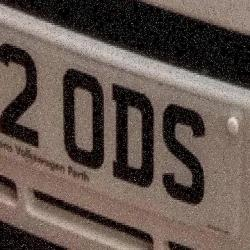LicensePlate: (0, 9, 243, 244)
